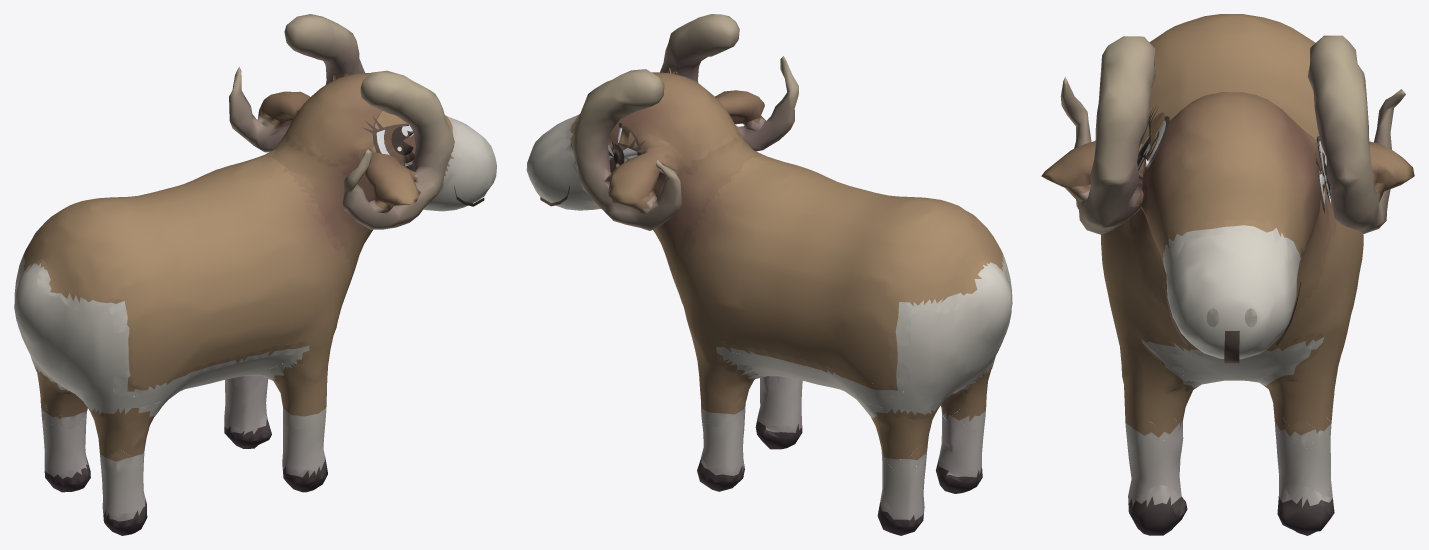
The model's file is mouflon_sheep.glb.
3 views of the same model, side by side, from view 1: azimuth 30°, elevation 25°; view 2: azimuth 150°, elevation 25°; view 3: azimuth 270°, elevation 25° (orthographic). The views are drawn at different scales.
Parts seen in each view (by area): view 1: mouflon_sheep; view 2: mouflon_sheep; view 3: mouflon_sheep.
Part boxes in pixels (box(x1,y1,x2,y2)): mouflon_sheep: box(14, 14, 496, 535); mouflon_sheep: box(526, 14, 1012, 535); mouflon_sheep: box(1041, 14, 1414, 535).
Size of the model in its own units: 0.8347 by 0.6848 by 0.4294.
